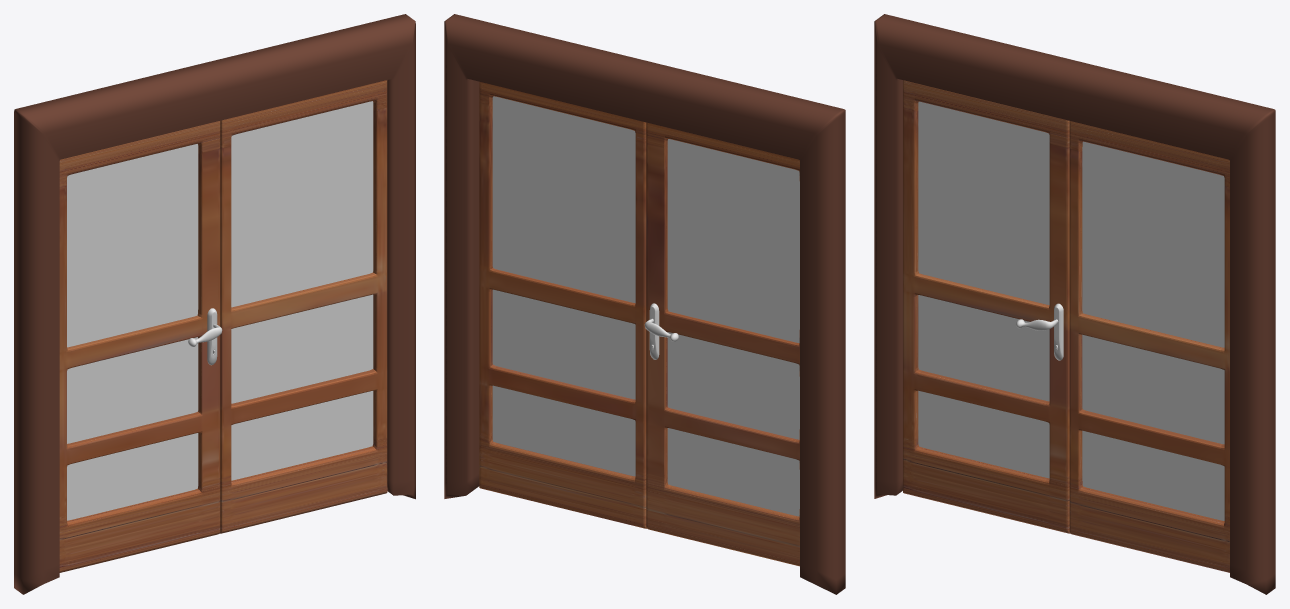
The model's file is Door.glb.
3 views of the same model, side by side, from view 1: azimuth 30°, elevation 25°; view 2: azimuth 150°, elevation 25°; view 3: azimuth 330°, elevation 25° (orthographic).
Visible parts, largest first — view 1: Cube.134, Cube.203, Circle.032; view 2: Cube.134, Cube.203, Circle.032; view 3: Cube.134, Cube.203, Circle.032.
Boxes of the visible parts, box(x1,y1,x2,y2) form: Cube.134: box(59, 80, 387, 572); Cube.203: box(14, 14, 415, 594); Circle.032: box(188, 308, 222, 365); Cube.134: box(479, 81, 799, 566); Cube.203: box(444, 14, 845, 594); Circle.032: box(644, 303, 678, 359); Cube.134: box(903, 80, 1229, 572); Cube.203: box(874, 14, 1275, 594); Circle.032: box(1016, 303, 1063, 360).
Size of the model in its own units: 2.58 by 3.01 by 0.3633.
Materials: 3 (1 with a texture image).
